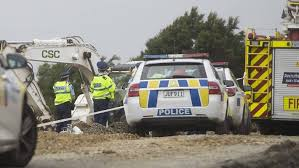high-vis: (93, 75, 112, 98), (54, 81, 70, 106)
